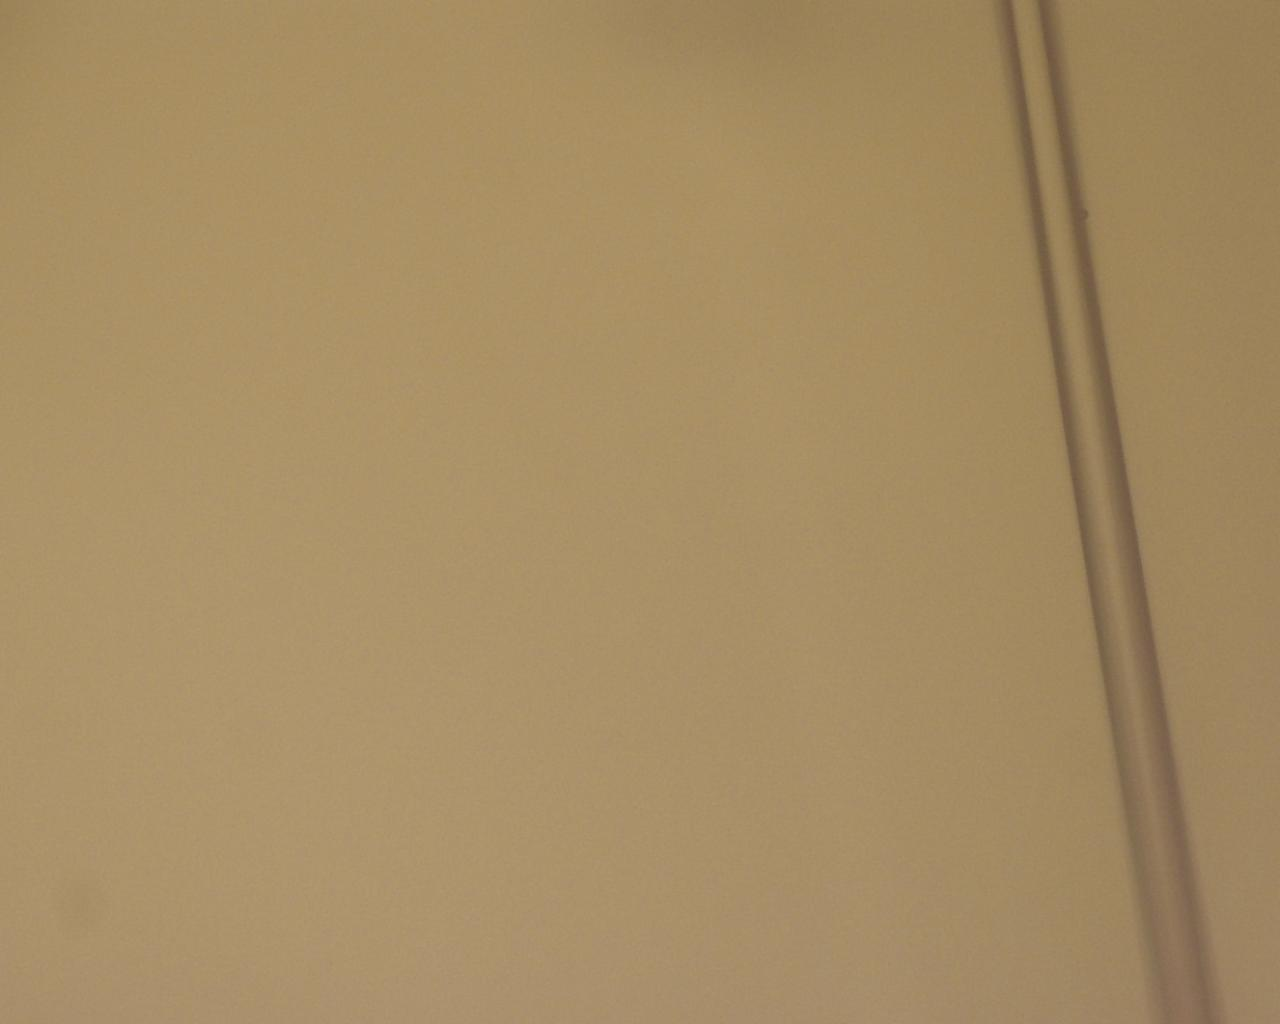fiber: (934, 583, 1280, 1024), (638, 583, 812, 1024), (840, 0, 934, 583)
